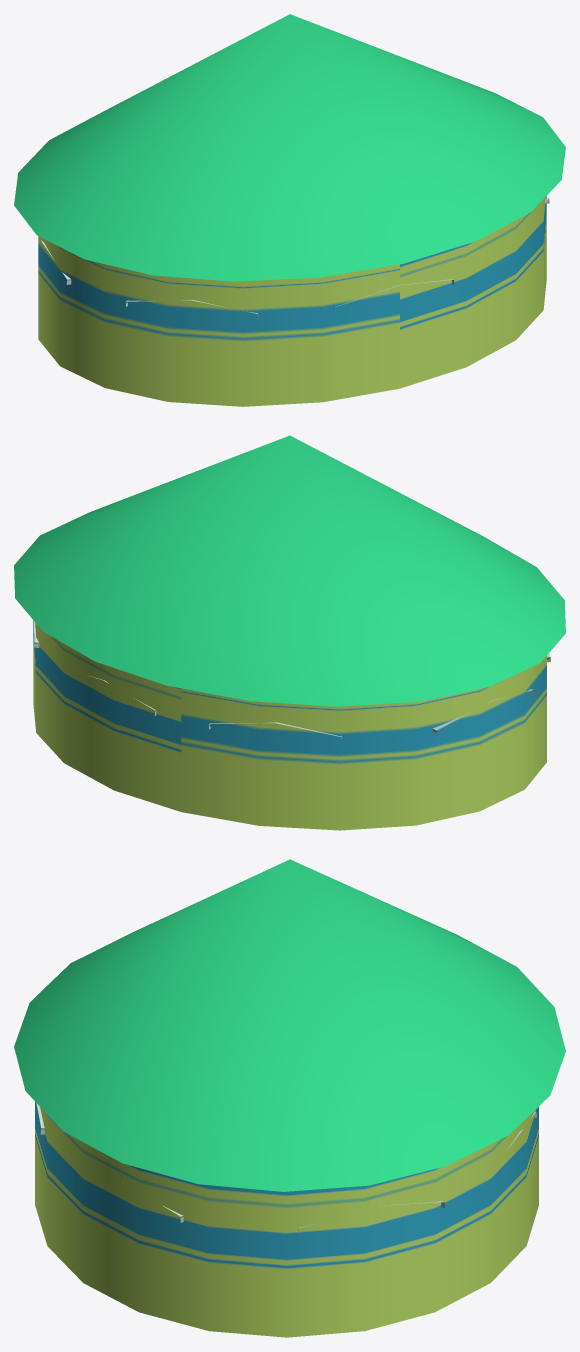
Rendered from ground .fbx.
3 renders of one model, top to bottom at view 1: azimuth 30°, elevation 25°; view 2: azimuth 150°, elevation 25°; view 3: azimuth 270°, elevation 25°, orthographic. The views are drawn at different scales.
Parts seen in each view (by area): view 1: polySurface204, polySurface205; view 2: polySurface204, polySurface205; view 3: polySurface204, polySurface205.
Part boxes in pixels (bbox=[...]): polySurface204: bbox=[14, 14, 565, 281]; polySurface205: bbox=[38, 196, 546, 406]; polySurface204: bbox=[14, 435, 565, 706]; polySurface205: bbox=[33, 620, 546, 830]; polySurface204: bbox=[14, 859, 565, 1191]; polySurface205: bbox=[35, 1102, 538, 1337].
Bounding box in the file's own units: 175 × 99.56 × 143.
